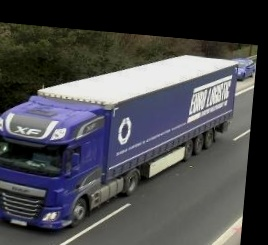car: (230, 56, 257, 81)
